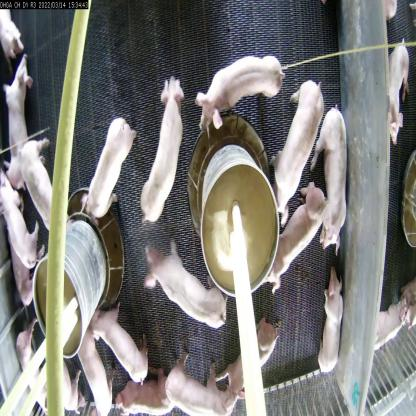Pig: (142, 235, 233, 334), (194, 44, 286, 136), (78, 108, 141, 225), (266, 168, 327, 288), (268, 88, 325, 212), (144, 76, 188, 227), (220, 317, 289, 410), (88, 304, 154, 380), (316, 96, 346, 258), (162, 347, 230, 415), (0, 173, 44, 258), (1, 56, 32, 168), (22, 137, 63, 219), (316, 272, 345, 386), (78, 329, 116, 415), (381, 30, 411, 134), (119, 362, 169, 413)
